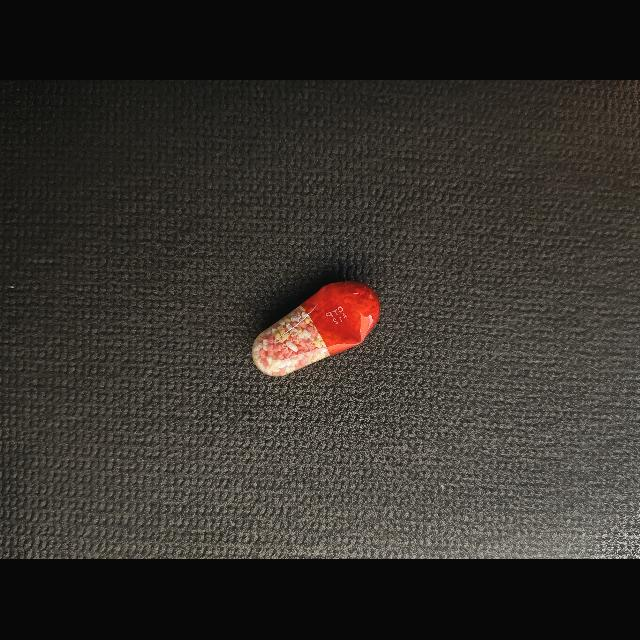Defective Capsule: (252, 281, 380, 377)
